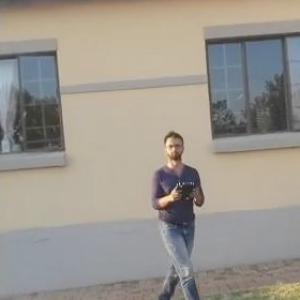follow: (154, 121, 222, 299)
